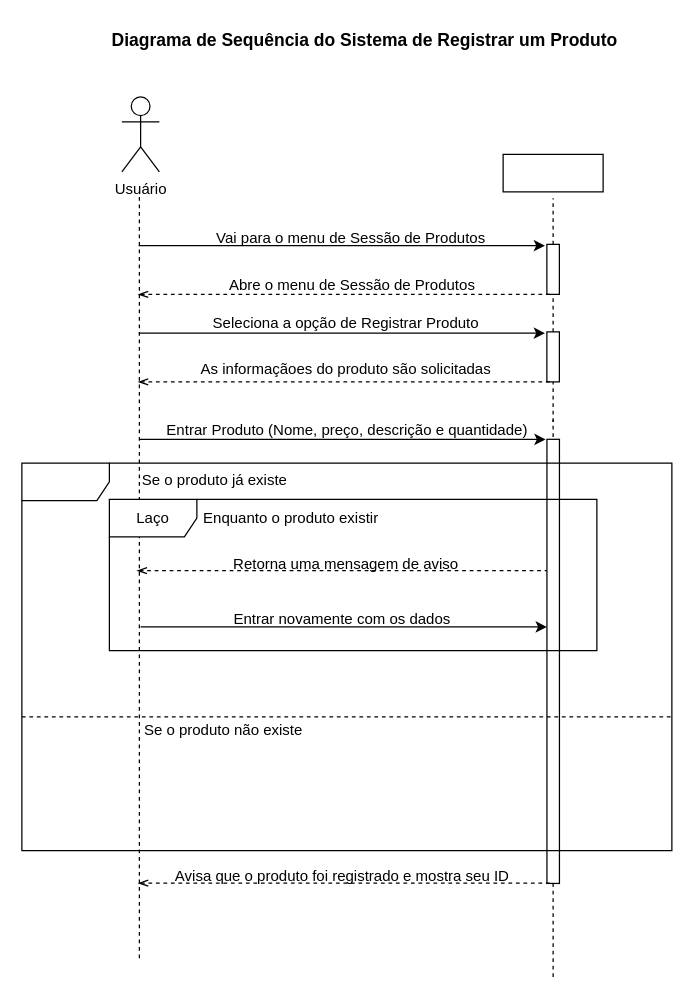
The diagram is 695 pixels wide and 1000 high, and some of its shapes have lost their labels. The box of each missing label's shape, as (x1, y1, x2, y2) in pixels:
Alternativa: (21, 462, 672, 851)
Sistema: (502, 153, 603, 192)
